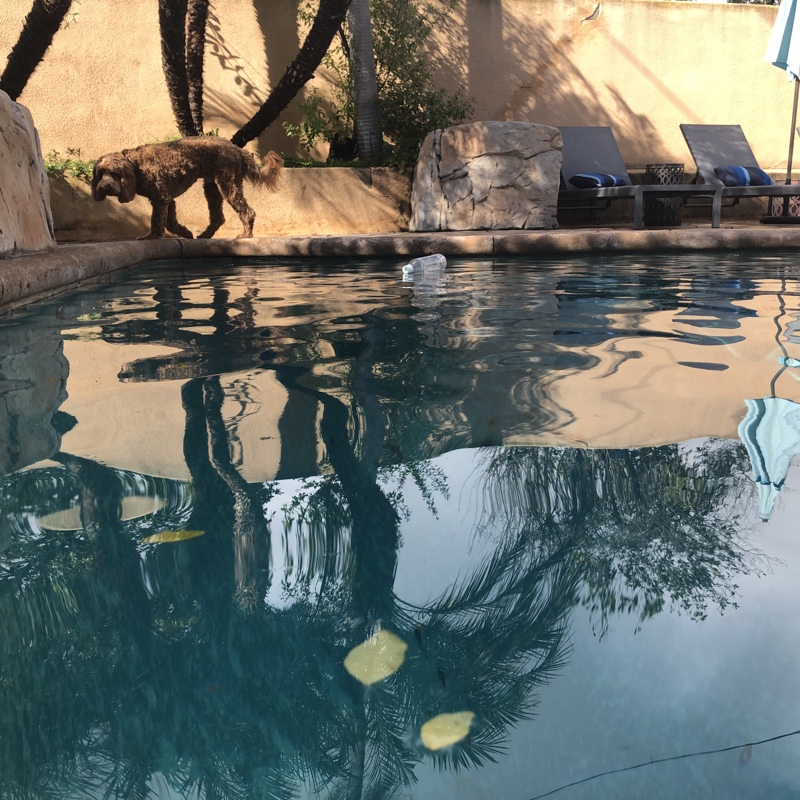Plastic Bottle: (401, 253, 449, 277)
